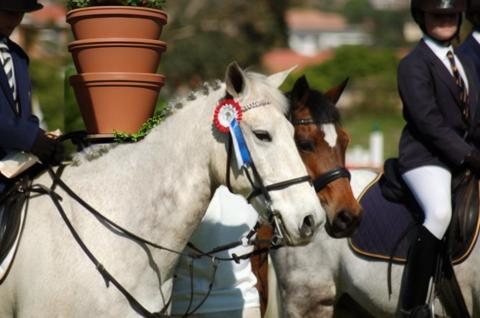horse: (1, 63, 325, 318), (287, 75, 362, 238)
person: (396, 1, 469, 316), (1, 1, 63, 169)
pottedplant: (65, 1, 167, 143)
